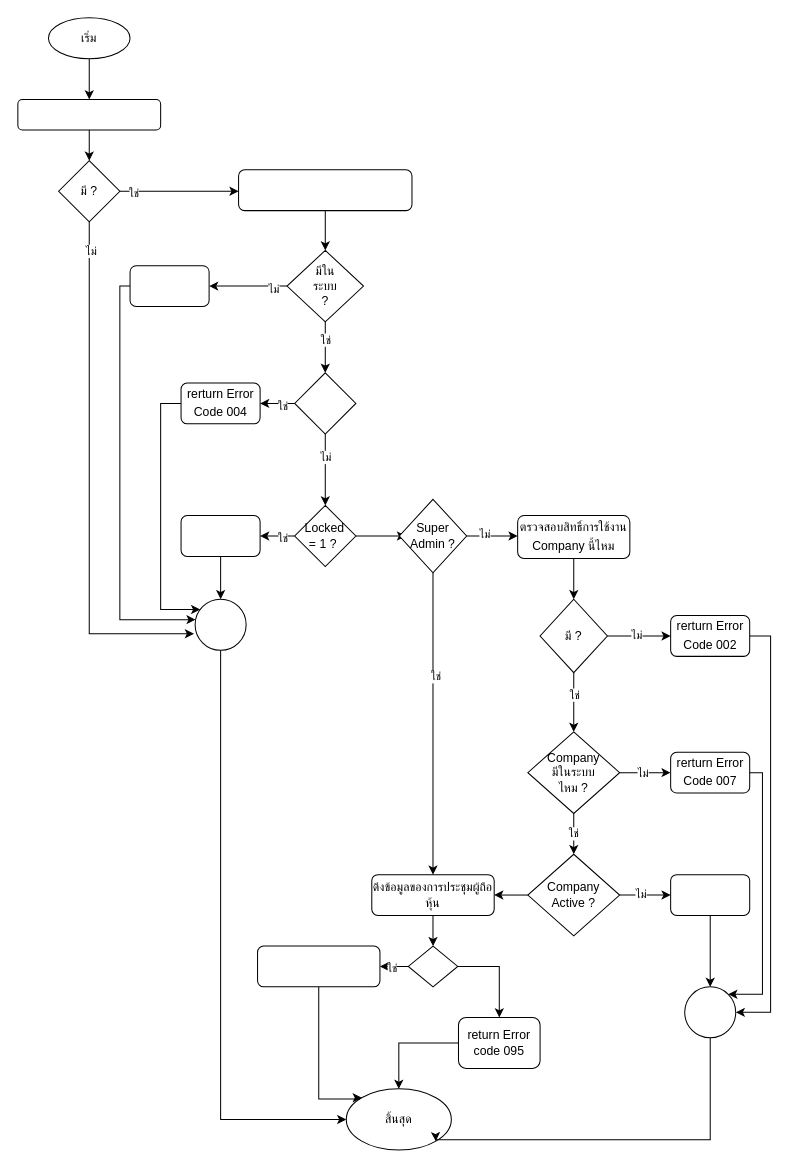
Some shapes in this 797 by 1168 pixel diagram are drawn without their labels. Here are the shapes that lost their labels. From the top down, the box of each, then its label:
(17, 98, 161, 130): ตรวจสอบสิทธิ์การใช้งาน
(238, 169, 412, 211): ตรวจสอบ Account สถานะการใช้งาน
(129, 265, 209, 307): rerturn Error Code 001
(294, 372, 356, 434): status = 1 ?
(180, 515, 260, 556): rerturn Error Code 011
(670, 874, 750, 915): rerturn Error Code 051
(257, 945, 380, 987): ส่งกลับข้อมูลของการประชุมผู้ถือหุ้น
(407, 945, 458, 987): มี?
